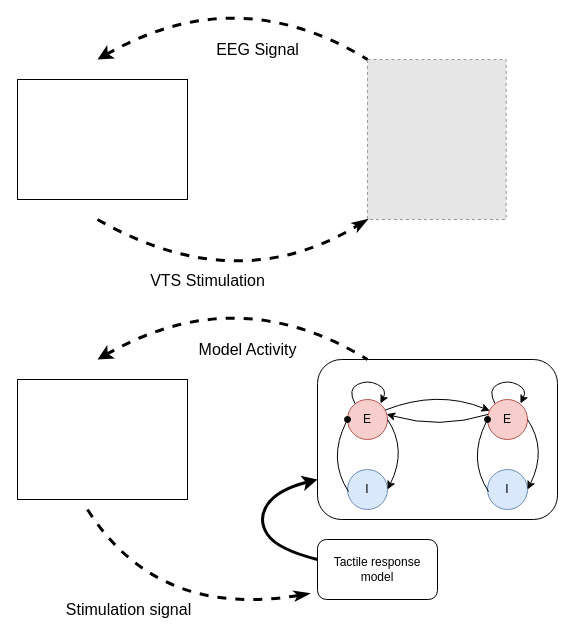
The diagram is 575 pixels wide and 637 high, and some of its shapes have lost their labels. Grey dashed boxes stand in for pictures. Each missing label, with the box of its shape:
BCI Device: (16, 78, 188, 200)
Virtual BCI Device: (16, 378, 188, 500)
